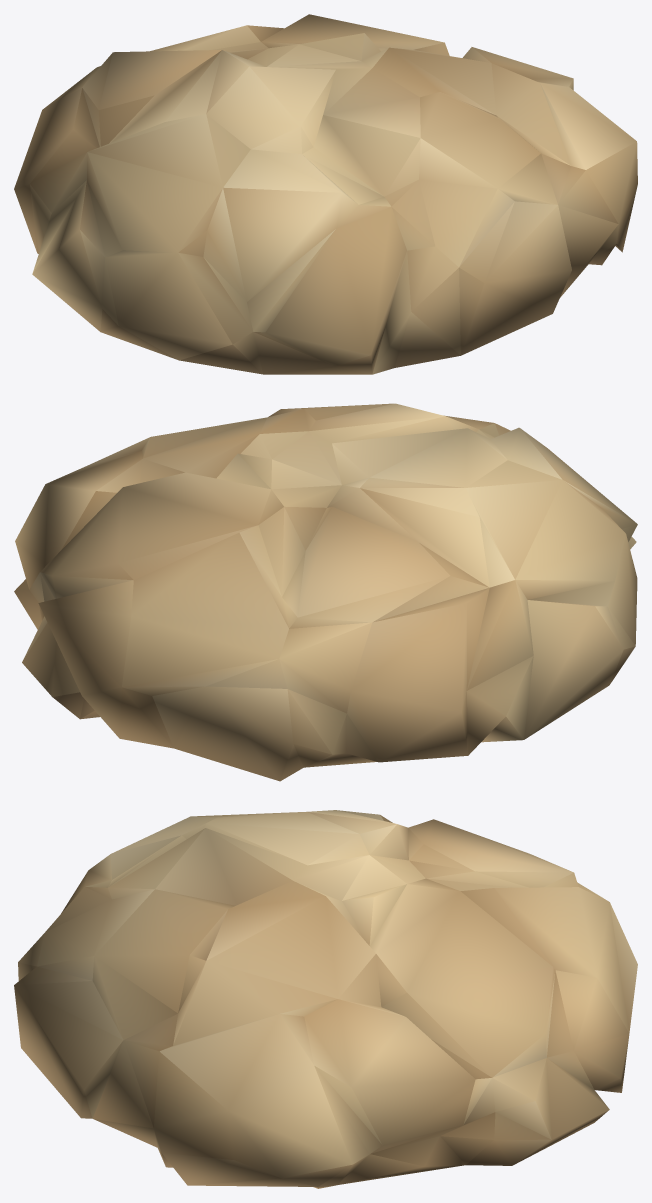
The model's file is shore_sand_blister_lod2.glb.
The picture shows the model from 3 angles, top to bottom: view 1: azimuth 30°, elevation 25°; view 2: azimuth 150°, elevation 25°; view 3: azimuth 270°, elevation 25°; orthographic projection. The views are drawn at different scales.
Parts seen in each view (by area): view 1: shore_sand_blister.001; view 2: shore_sand_blister.001; view 3: shore_sand_blister.001.
Part boxes in pixels (x1,y1,x2,y2): shore_sand_blister.001: [14, 14, 637, 374]; shore_sand_blister.001: [14, 403, 637, 781]; shore_sand_blister.001: [14, 810, 637, 1188].
Size of the model in its own units: 2.47 by 0.8893 by 2.35.
